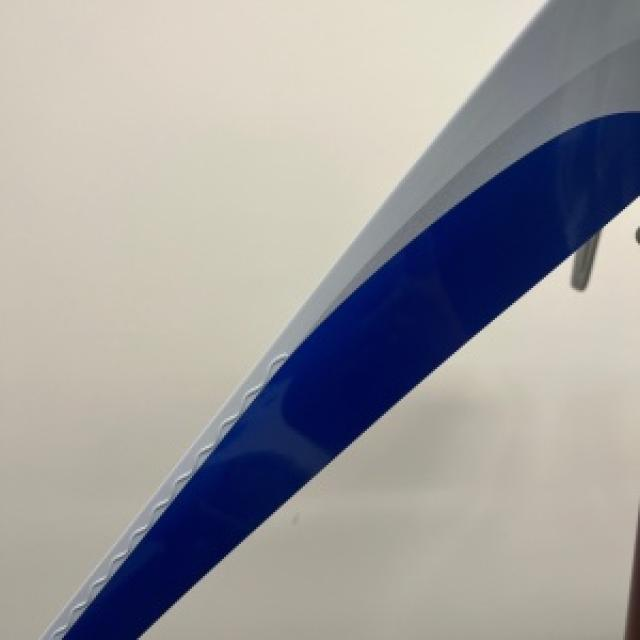healthy: (141, 203, 638, 638)
